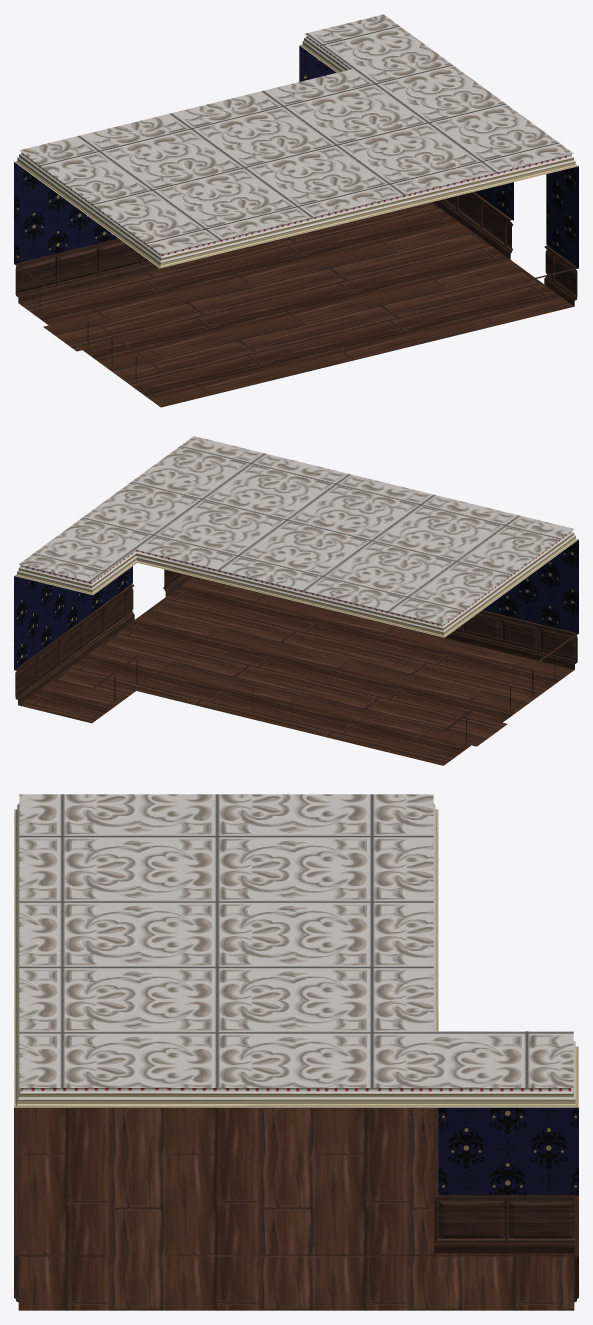
File: Storage_Upstairs_FINAL.fbx
3 renders of one model, top to bottom at view 1: azimuth 30°, elevation 25°; view 2: azimuth 150°, elevation 25°; view 3: azimuth 270°, elevation 25°, orthographic. The views are drawn at different scales.
Visible parts, largest first — view 1: Storage_Upstairs; view 2: Storage_Upstairs; view 3: Storage_Upstairs.
Boxes of the visible parts, x1=… form: Storage_Upstairs: x1=14, y1=14, x2=578, y2=407; Storage_Upstairs: x1=14, y1=436, x2=578, y2=765; Storage_Upstairs: x1=14, y1=794, x2=578, y2=1310.
Bounding box in the file's own units: 1006 × 348 × 800.
